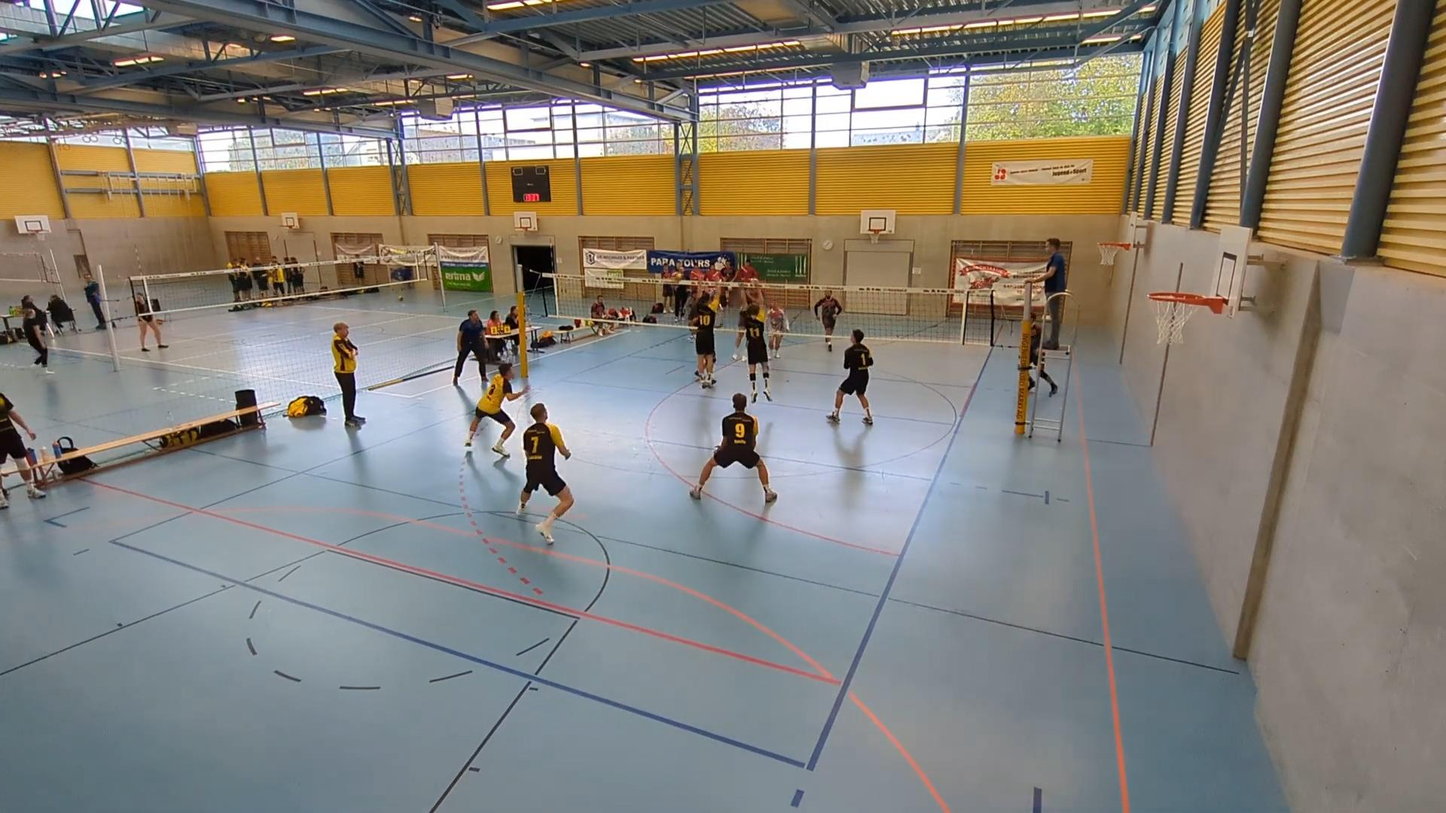Block: (738, 280, 776, 408), (693, 274, 725, 391)
Player: (690, 393, 776, 502), (517, 403, 573, 544), (464, 363, 527, 457), (828, 329, 873, 424), (1030, 322, 1058, 396), (813, 291, 843, 351), (767, 303, 788, 358), (731, 302, 748, 361)
